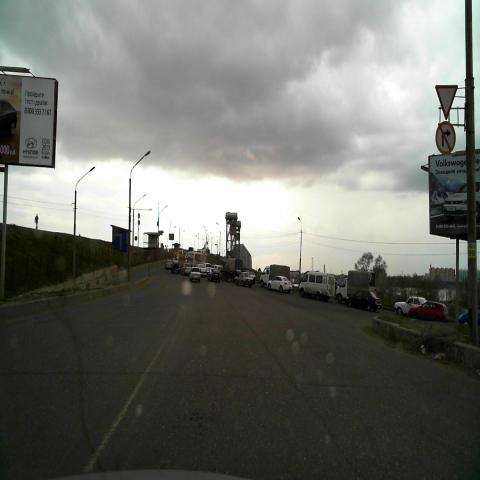3_18: (434, 120, 456, 156)
